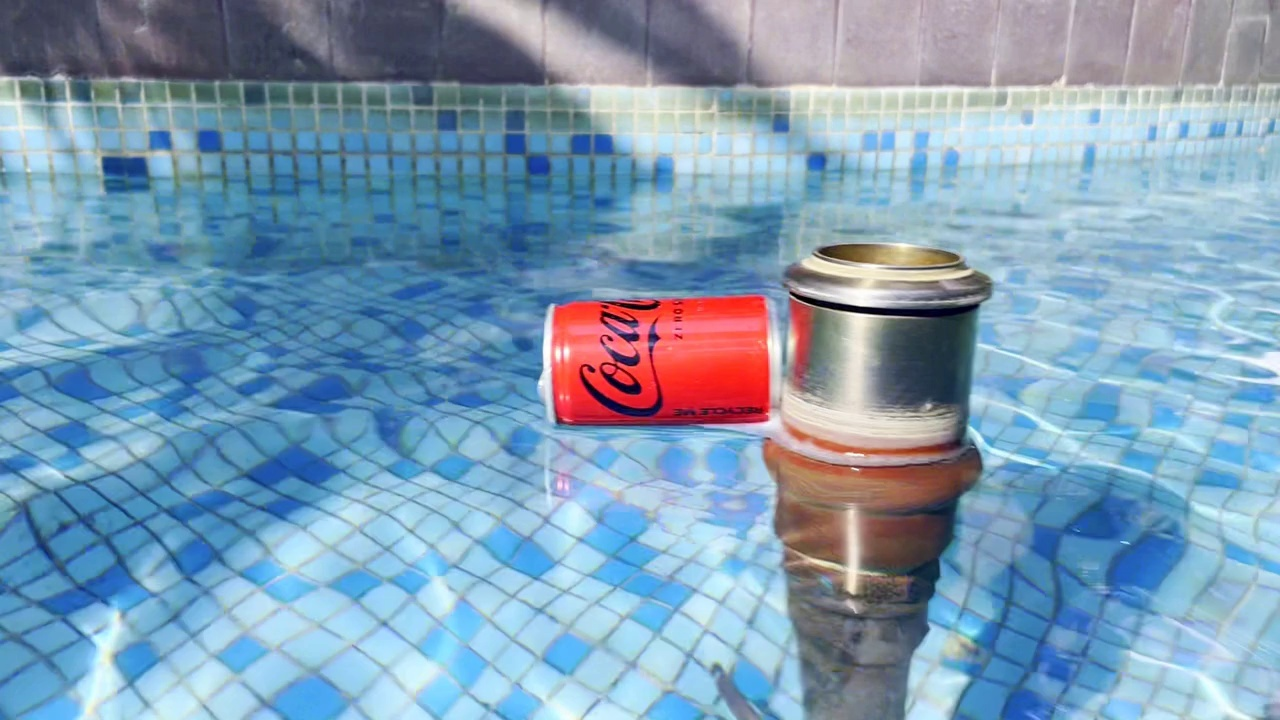debris: (527, 280, 789, 440)
